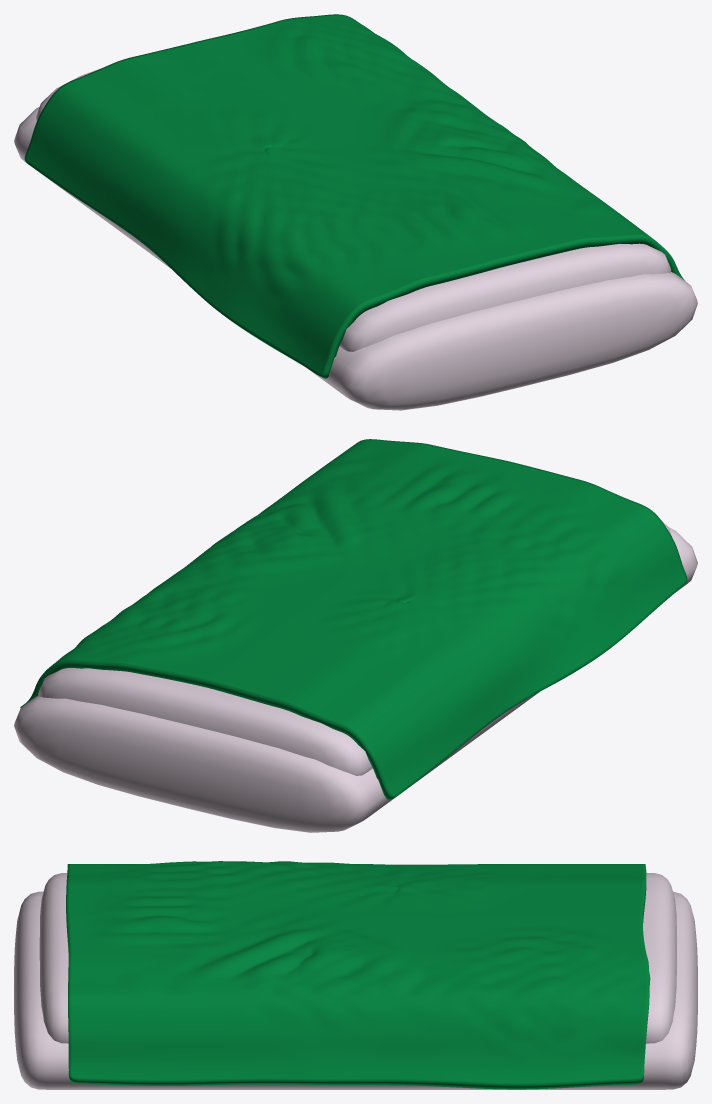
Rendered from BED.fbx.
The picture shows the model from 3 angles, top to bottom: view 1: azimuth 30°, elevation 25°; view 2: azimuth 150°, elevation 25°; view 3: azimuth 270°, elevation 25°; orthographic projection. The views are drawn at different scales.
Visible parts, largest first — view 1: Plane; view 2: Plane; view 3: Plane.
Boxes of the visible parts, bbox=[...] form: Plane: bbox=[14, 14, 697, 410]; Plane: bbox=[14, 439, 697, 832]; Plane: bbox=[14, 861, 697, 1089].
Bounding box in the file's own units: 1622 × 485 × 2567.
